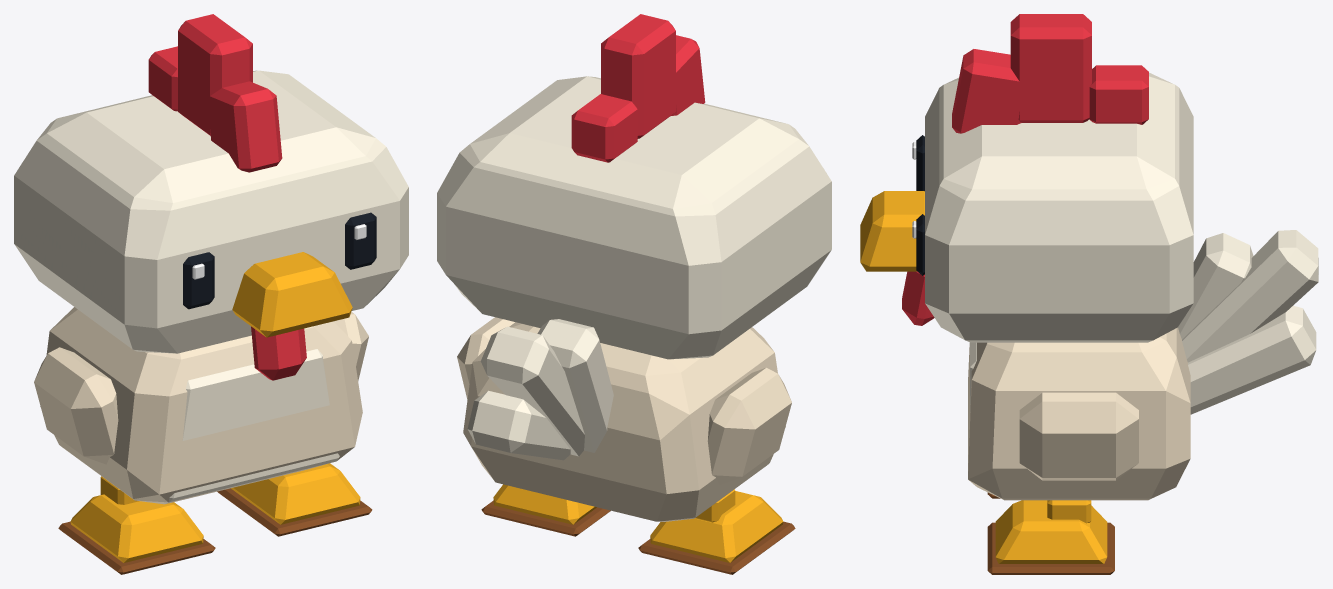
The model's file is Chicken_Base_v01.fbx.
The picture shows the model from 3 angles, left to right: view 1: azimuth 30°, elevation 25°; view 2: azimuth 150°, elevation 25°; view 3: azimuth 270°, elevation 25°; orthographic projection.
Visible parts, largest first — view 1: Head, Body, Breast, Beak, Wing_L, Comb_Crown, Foot_L, Comb_Front, Foot_R, Wattle, Sole_L, Sole_R (+4 smaller); view 2: Head, Body, Wing_L, Comb_Crown, Tail_Feather_1, Tail_Feather_0, Foot_L, Tail_Feather_2, Comb_Rear, Foot_R, Sole_L, Comb_Front (+3 smaller); view 3: Head, Body, Wing_R, Comb_Crown, Tail_Feather_1, Tail_Feather_2, Foot_R, Comb_Front, Beak, Tail_Feather_0, Comb_Rear, Sole_R (+2 smaller).
Part boxes in pixels (x1,y1,x2,y2): Head: [14, 70, 408, 353]; Body: [40, 307, 362, 504]; Breast: [169, 349, 339, 502]; Beak: [232, 252, 352, 337]; Wing_L: [34, 347, 118, 464]; Comb_Crown: [178, 14, 252, 135]; Foot_L: [70, 494, 203, 562]; Comb_Front: [208, 81, 282, 172]; Foot_R: [231, 463, 360, 524]; Wattle: [251, 326, 306, 380]; Sole_L: [58, 521, 215, 574]; Sole_R: [217, 488, 372, 536]; Head: [437, 76, 831, 359]; Body: [463, 322, 785, 521]; Wing_L: [707, 367, 791, 484]; Comb_Crown: [601, 14, 675, 138]; Tail_Feather_1: [480, 326, 584, 456]; Tail_Feather_0: [537, 319, 613, 452]; Foot_L: [650, 491, 783, 562]; Tail_Feather_2: [467, 390, 570, 460]; Comb_Rear: [571, 94, 637, 162]; Foot_R: [493, 484, 596, 524]; Sole_L: [638, 521, 795, 574]; Comb_Front: [671, 35, 705, 115]; Head: [925, 72, 1193, 342]; Body: [968, 327, 1190, 500]; Wing_R: [1019, 392, 1138, 480]; Comb_Crown: [1010, 14, 1091, 122]; Tail_Feather_1: [1182, 230, 1318, 362]; Tail_Feather_2: [1188, 305, 1316, 414]; Foot_R: [995, 500, 1107, 563]; Comb_Front: [952, 49, 1021, 133]; Beak: [860, 191, 924, 271]; Tail_Feather_0: [1178, 233, 1253, 339]; Comb_Rear: [1089, 65, 1148, 124]; Sole_R: [987, 522, 1114, 574].
Size of the model in its own units: 173 by 274 by 230.
